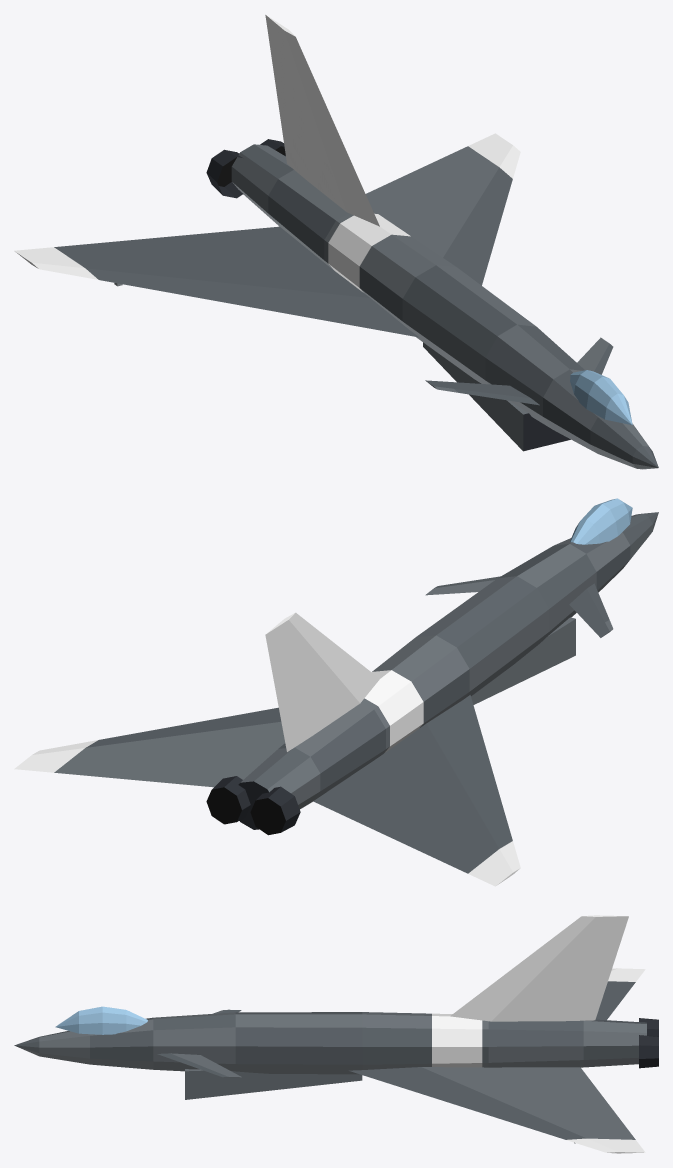
The model's file is typhoon.glb.
The picture shows the model from 3 angles, top to bottom: view 1: azimuth 30°, elevation 25°; view 2: azimuth 150°, elevation 25°; view 3: azimuth 270°, elevation 25°; orthographic projection. The views are drawn at different scales.
Visible parts, largest first — view 1: body; view 2: body; view 3: body.
Boxes of the visible parts, box(x1,y1,x2,y2) form: body: box(14, 14, 658, 469); body: box(14, 498, 658, 886); body: box(14, 915, 658, 1153).
Bounding box in the file's own units: 10.95 × 4.83 × 16.26.
